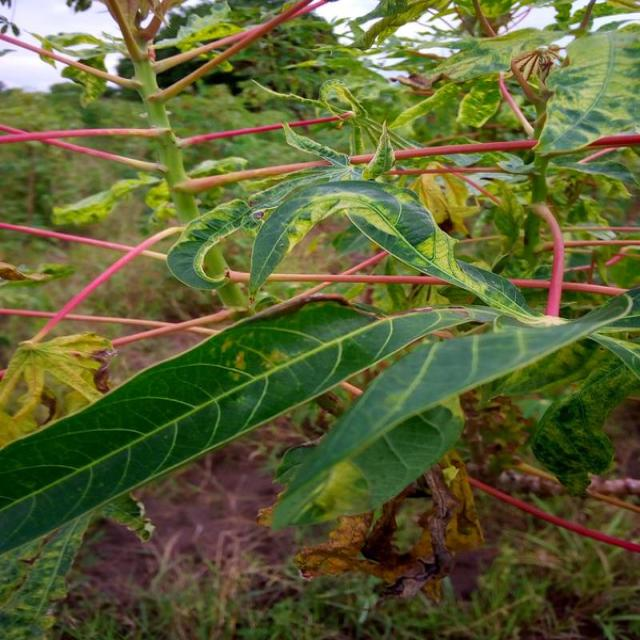cassava leaf: (0, 294, 488, 558), (264, 284, 638, 531), (532, 25, 638, 164)
